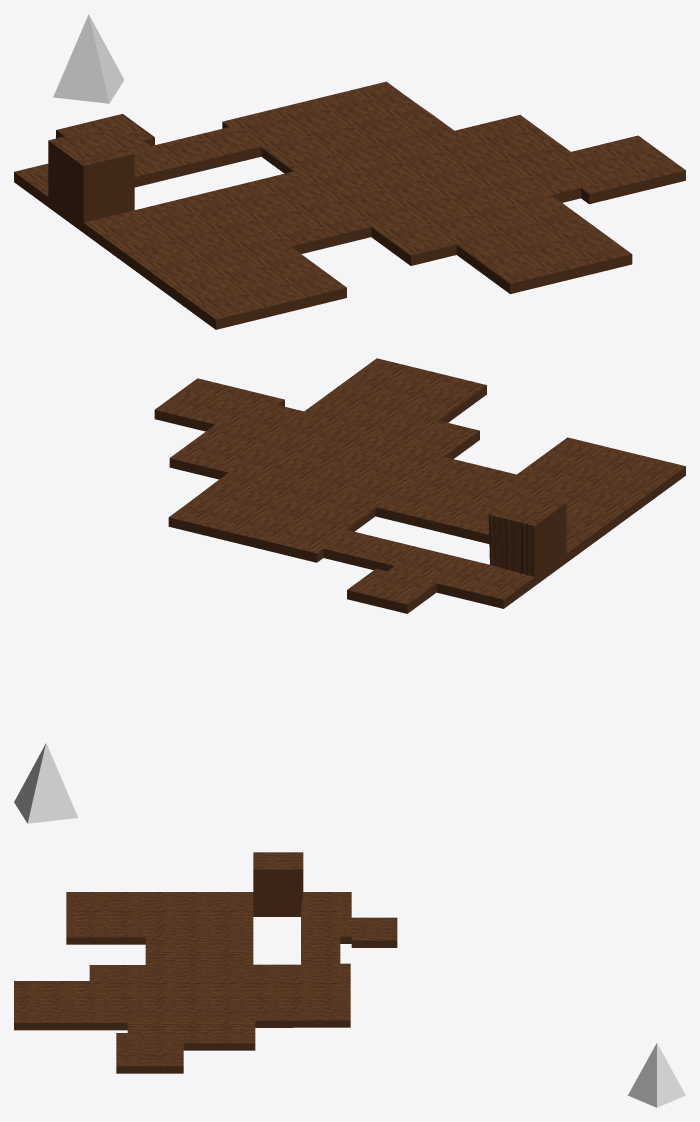
File: SM_leaklighttest.fbx
3 renders of one model, top to bottom at view 1: azimuth 30°, elevation 25°; view 2: azimuth 150°, elevation 25°; view 3: azimuth 270°, elevation 25°, orthographic. The views are drawn at different scales.
Visible parts, largest first — view 1: Middle_floorandroof.001, SM_referemcepoint; view 2: Middle_floorandroof.001, SM_referemcepoint; view 3: Middle_floorandroof.001, SM_referemcepoint.
Boxes of the visible parts, x1=… form: Middle_floorandroof.001: x1=14, y1=81, x2=685, y2=329; SM_referemcepoint: x1=53, y1=14, x2=123, y2=103; Middle_floorandroof.001: x1=154, y1=358, x2=685, y2=613; SM_referemcepoint: x1=14, y1=743, x2=78, y2=823; Middle_floorandroof.001: x1=14, y1=852, x2=397, y2=1073; SM_referemcepoint: x1=628, y1=1043, x2=685, y2=1107.
Size of the model in its own units: 2432 by 3962 by 931.
